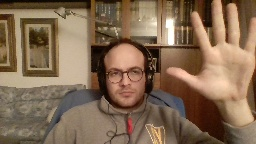Mano_aperta: (162, 0, 256, 106)
